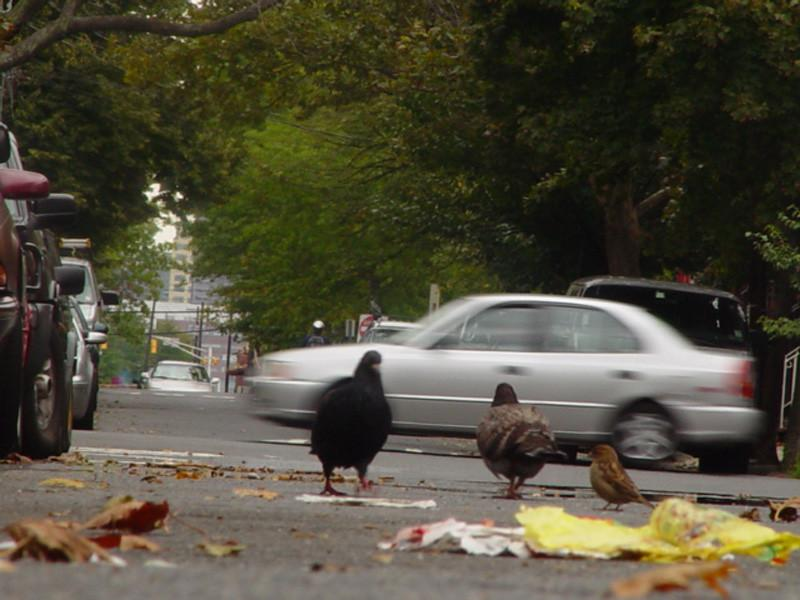car: (246, 293, 766, 469), (560, 275, 752, 417), (1, 120, 71, 459), (140, 361, 220, 394)
